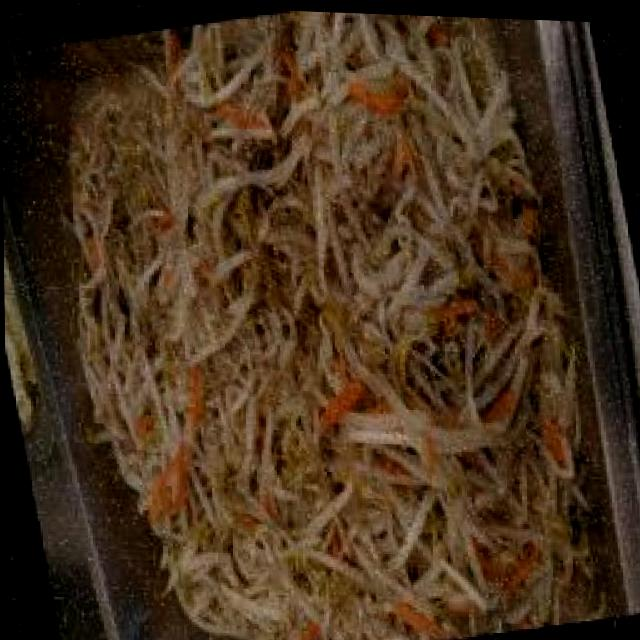mung_bean_sprouts: (33, 1, 610, 640)
